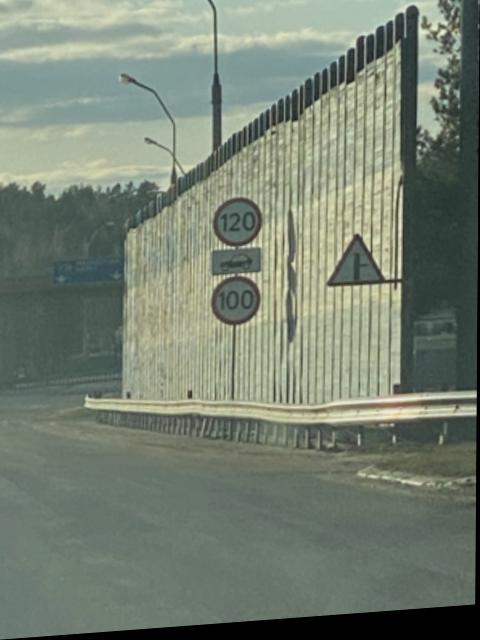limit100: (207, 269, 265, 337)
limit120: (211, 191, 270, 261)
